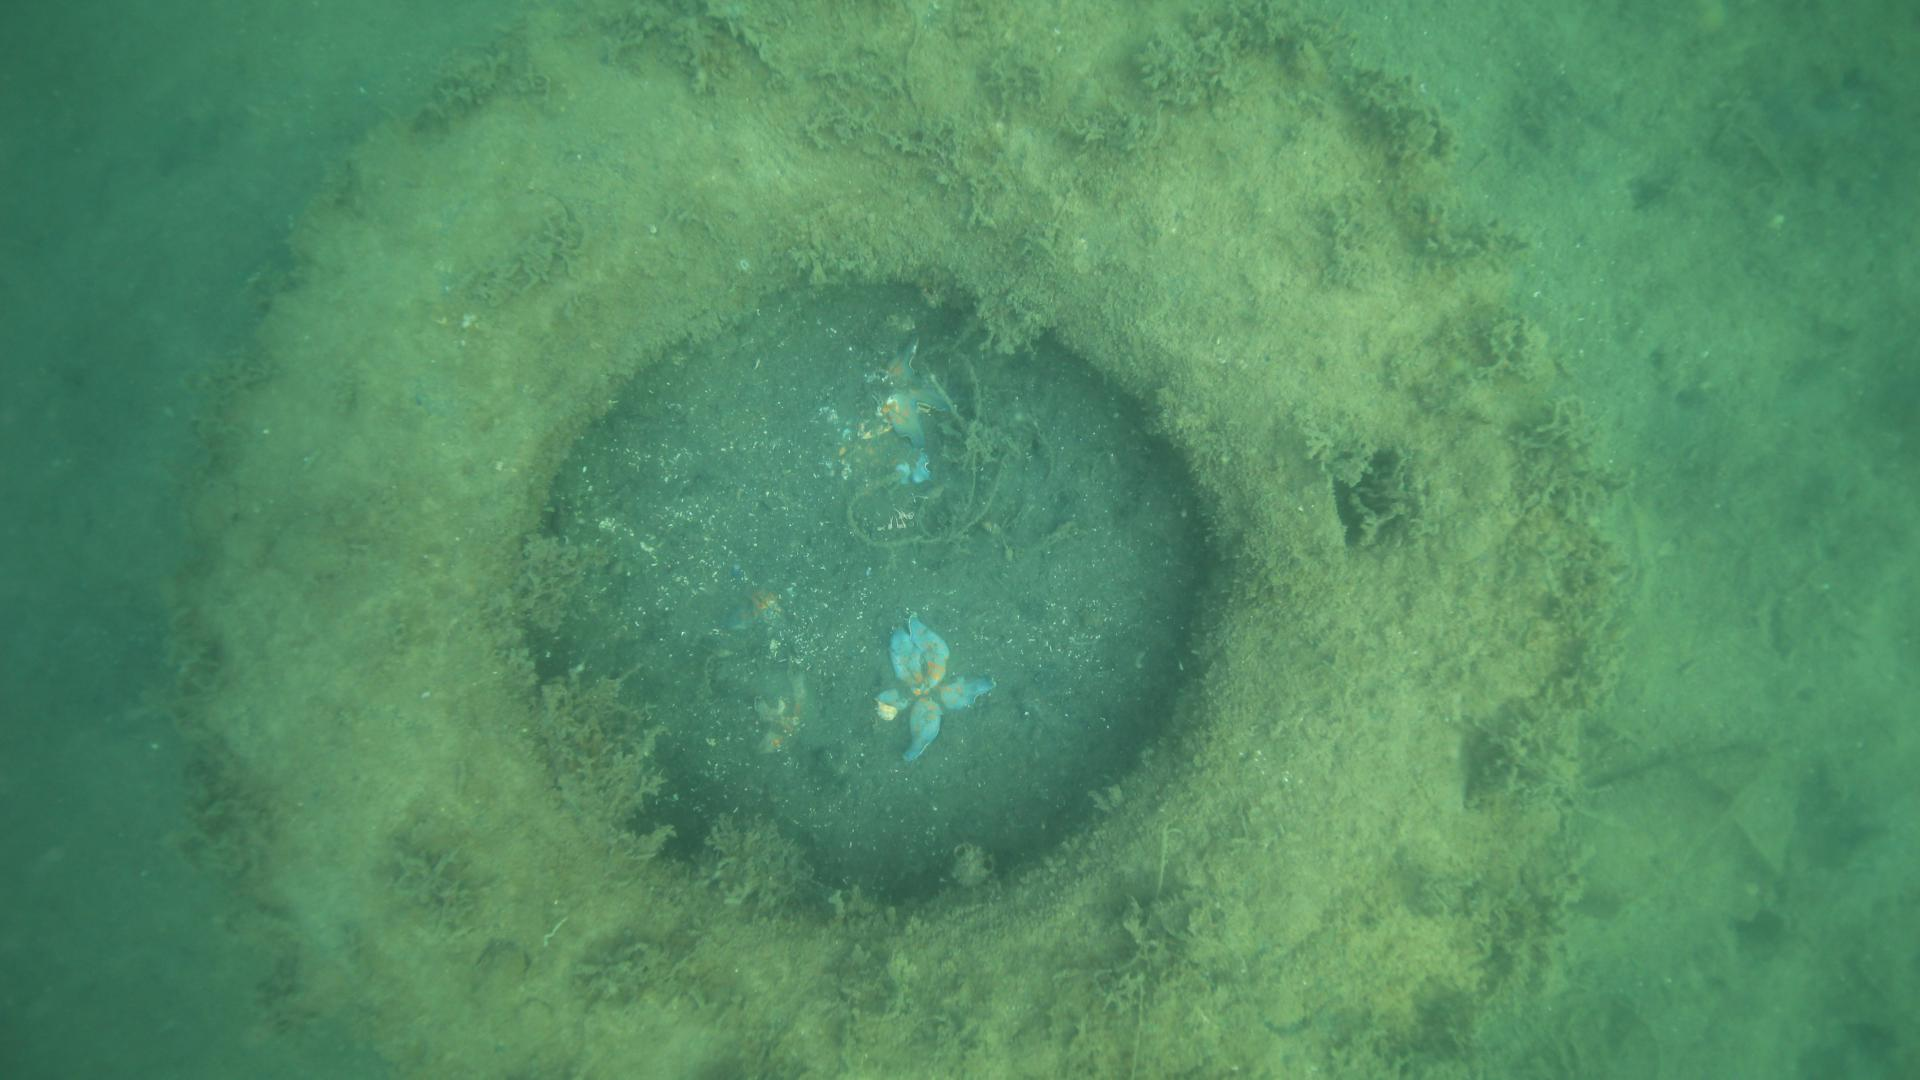tire: (194, 0, 1629, 1080)
